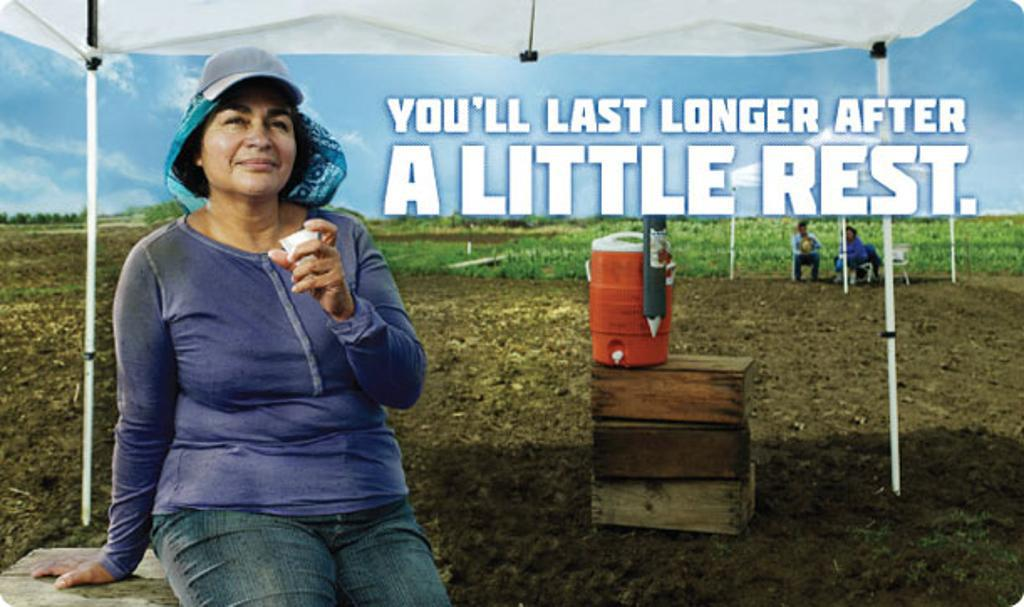face: (211, 73, 297, 187)
